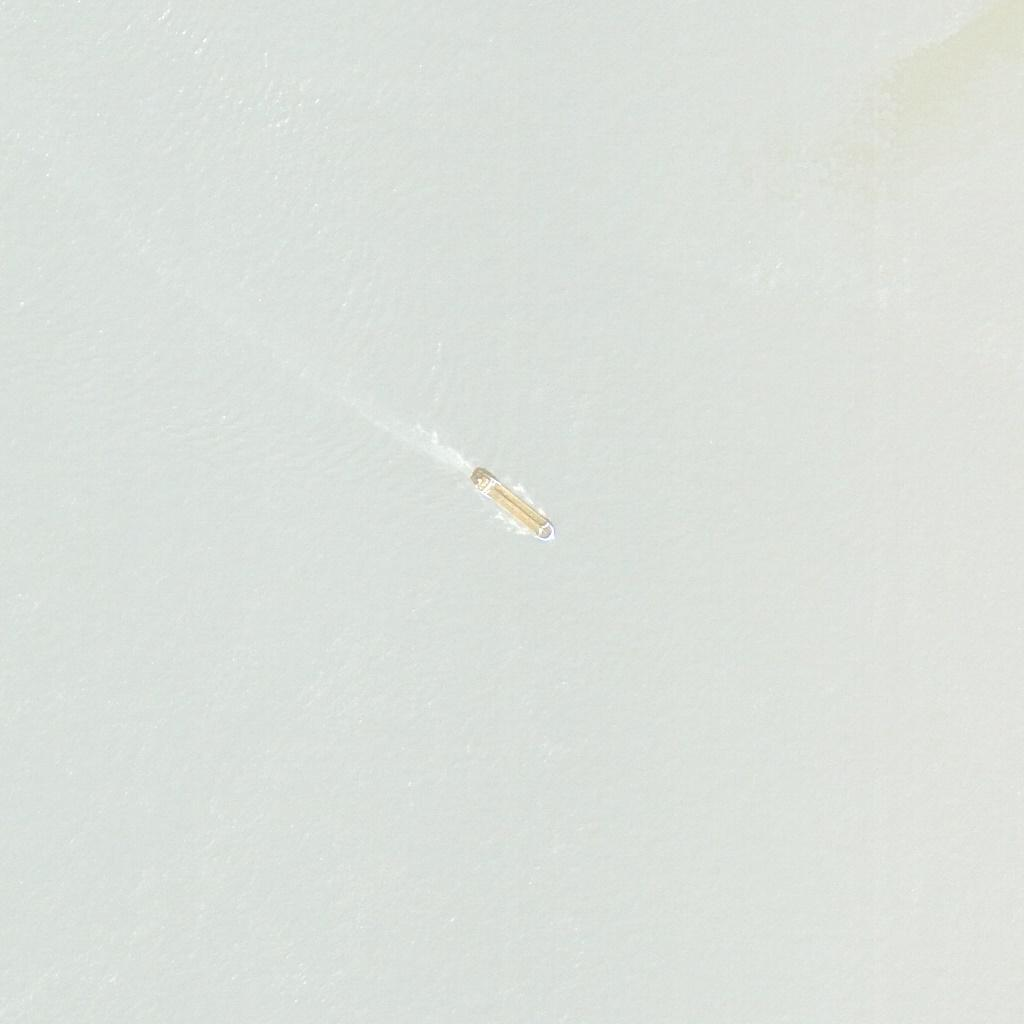ship: (472, 462, 561, 542)
